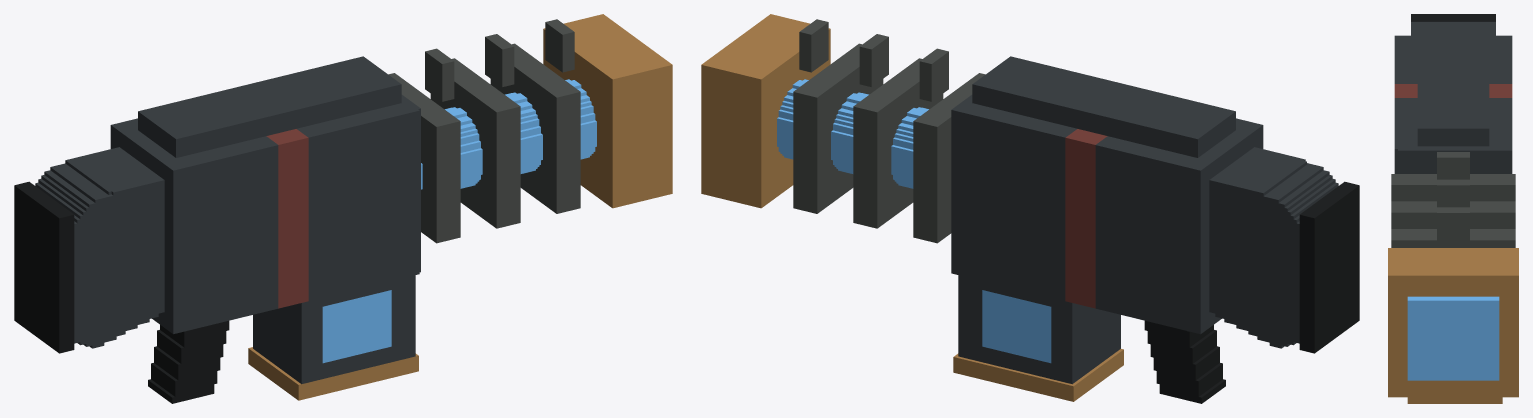
File: bolt_plasma_caster.glb
The picture shows the model from 3 angles, left to right: view 1: azimuth 30°, elevation 25°; view 2: azimuth 150°, elevation 25°; view 3: azimuth 270°, elevation 25°; orthographic projection. The views are drawn at different scales.
Parts seen in each view (by area): view 1: bolt_plasma_caster:compound; view 2: bolt_plasma_caster:compound; view 3: bolt_plasma_caster:compound.
Part boxes in pixels (x1,y1,x2,y2): bolt_plasma_caster:compound: (14,14,672,403); bolt_plasma_caster:compound: (701,14,1359,403); bolt_plasma_caster:compound: (1388,14,1518,403).
Size of the model in its own units: 0.812 by 0.364 by 0.16.
